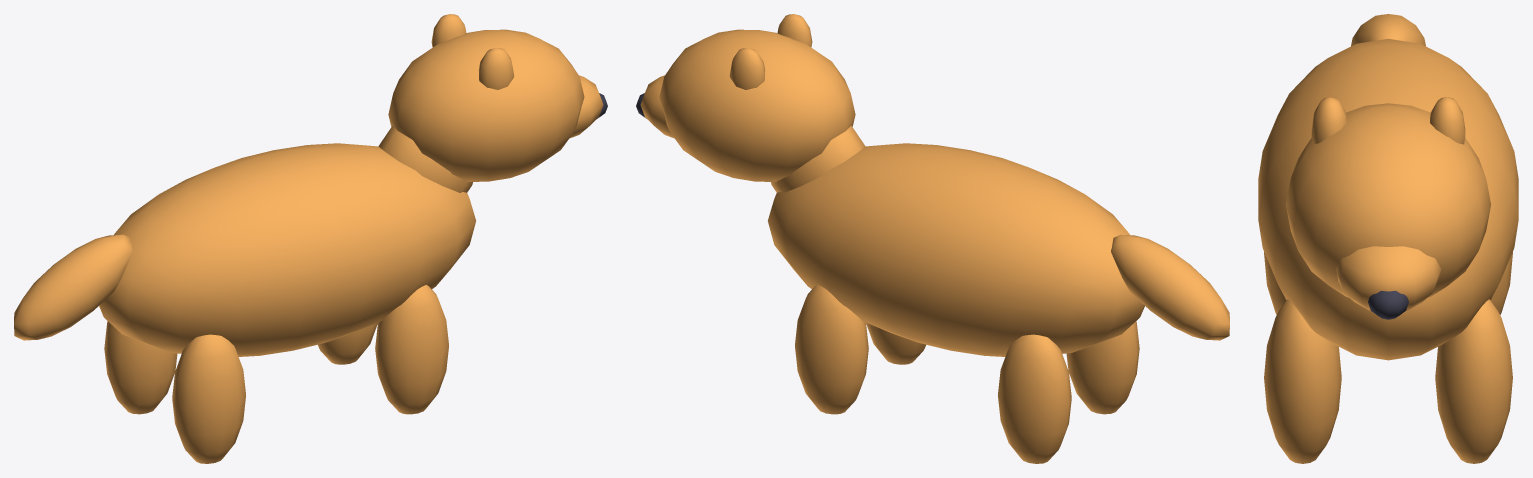
The model's file is cat.glb.
The picture shows the model from 3 angles, left to right: view 1: azimuth 30°, elevation 25°; view 2: azimuth 150°, elevation 25°; view 3: azimuth 270°, elevation 25°; orthographic projection. The views are drawn at different scales.
Parts seen in each view (by area): view 1: Body, Head, LegBackLeft, LegFrontLeft, Tail, LegBackRight, Neck, LegFrontRight, EarLeft, Snout, EarRight; view 2: Body, Head, LegBackRight, LegFrontRight, Tail, LegBackLeft, Neck, LegFrontLeft, EarRight, Snout, EarLeft; view 3: Body, Head, LegFrontLeft, LegFrontRight, Snout, Tail, EarLeft, EarRight, Nose, LegBackLeft, LegBackRight.
Part boxes in pixels (box(x1,y1,x2,y2)): Body: box(99, 143, 475, 356); Head: box(388, 29, 584, 181); LegBackLeft: box(172, 334, 245, 463); LegFrontLeft: box(375, 285, 448, 414); Tail: box(14, 234, 132, 340); LegBackRight: box(104, 321, 177, 414); Neck: box(378, 126, 472, 192); LegFrontRight: box(318, 322, 377, 364); EarLeft: box(478, 48, 514, 89); Snout: box(569, 75, 603, 138); EarRight: box(431, 14, 466, 47); Body: box(768, 143, 1144, 356); Head: box(659, 29, 855, 181); LegBackRight: box(998, 334, 1071, 463); LegFrontRight: box(795, 285, 868, 414); Tail: box(1111, 234, 1229, 340); LegBackLeft: box(1066, 321, 1139, 414); Neck: box(771, 126, 865, 192); LegFrontLeft: box(866, 322, 925, 364); EarRight: box(729, 48, 765, 89); Snout: box(640, 75, 674, 138); EarLeft: box(777, 14, 812, 47); Body: box(1258, 39, 1518, 360); Head: box(1285, 103, 1491, 297); LegFrontLeft: box(1264, 299, 1341, 463); LegFrontRight: box(1435, 299, 1512, 463); Snout: box(1335, 246, 1441, 310); Tail: box(1351, 14, 1425, 46); EarLeft: box(1311, 97, 1346, 144); EarRight: box(1430, 97, 1465, 144); Nose: box(1368, 290, 1408, 319); LegBackLeft: box(1264, 252, 1286, 314); LegBackRight: box(1490, 252, 1512, 314).
Size of the model in its own units: 1.66 by 0.9 by 0.5023.
